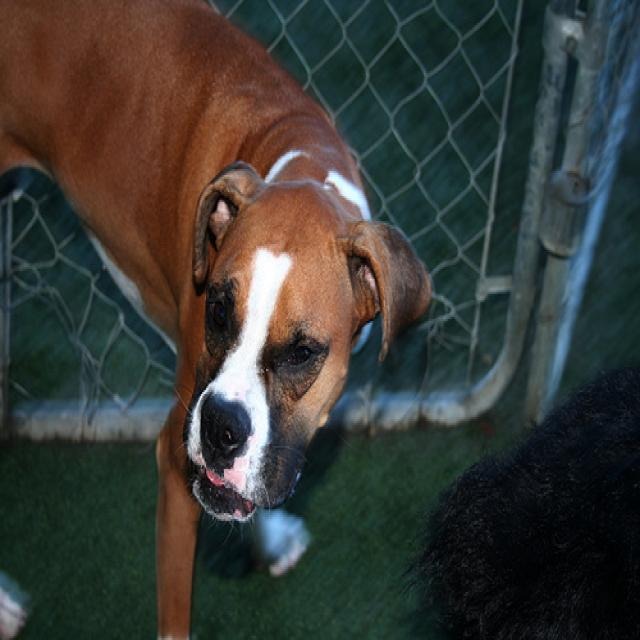dog-boxer: (1, 2, 436, 636)
